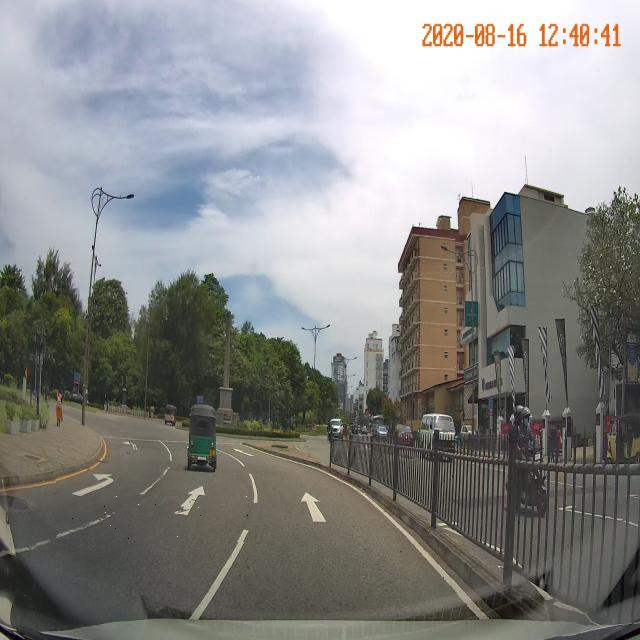diamond: (56, 470, 259, 542)
